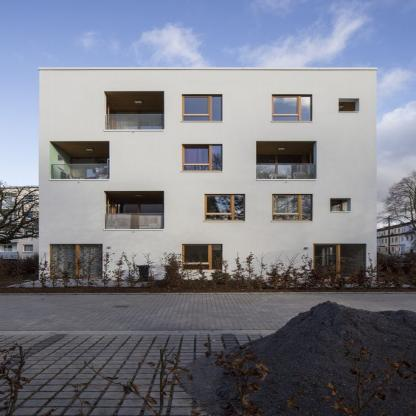Balcony: (105, 115, 164, 131), (105, 214, 164, 230), (257, 164, 316, 180), (51, 164, 109, 180)
Building Outline: (37, 67, 378, 281)
Door: (316, 245, 364, 278), (53, 245, 101, 278), (116, 202, 163, 228), (257, 155, 301, 179), (116, 111, 163, 133)
Facade: (37, 68, 378, 281)
Floor Slab: (39, 131, 376, 135), (39, 230, 376, 234), (39, 181, 376, 185)
Window: (104, 191, 164, 230), (104, 91, 164, 130), (257, 141, 316, 180), (51, 141, 109, 180), (274, 196, 312, 220), (184, 97, 222, 121), (184, 146, 222, 170), (184, 245, 222, 269), (273, 97, 310, 121), (207, 196, 244, 220), (331, 199, 351, 212), (339, 99, 359, 112)
